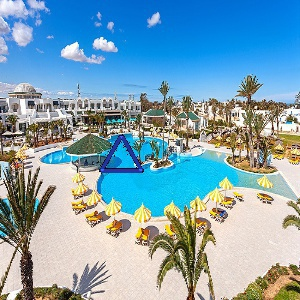triangle: (96, 131, 146, 175)
